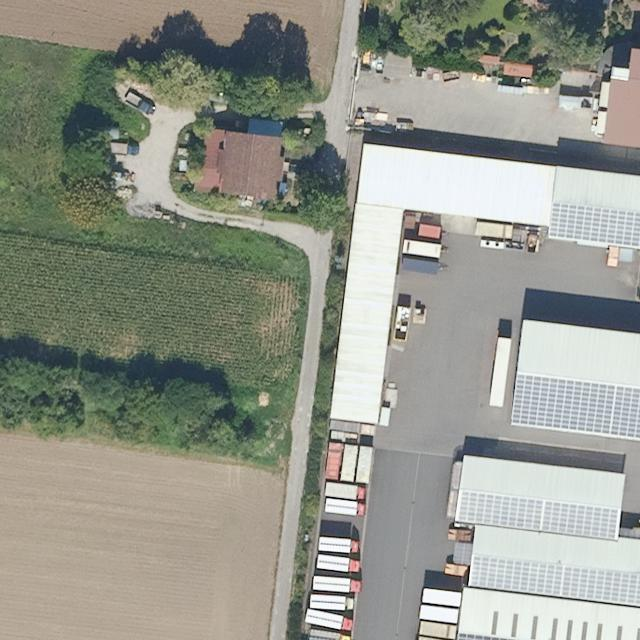PV: (468, 550, 639, 608), (508, 369, 639, 444), (453, 487, 623, 542), (547, 200, 639, 251), (456, 631, 518, 639)
